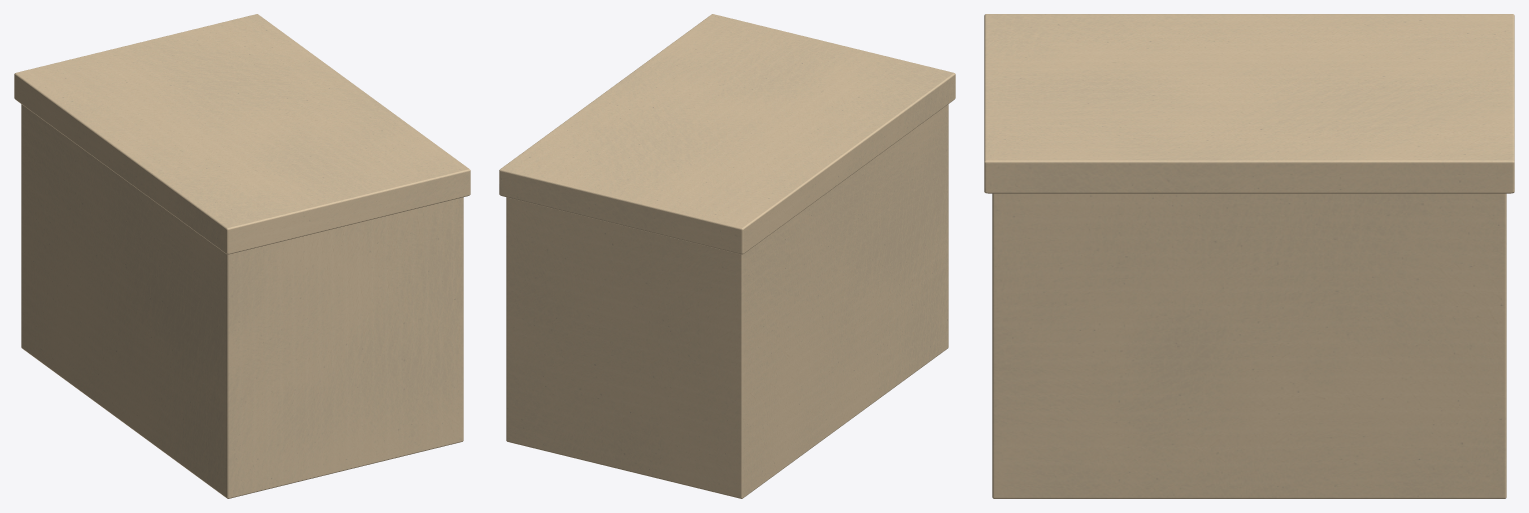
File: colored_box.obj
The picture shows the model from 3 angles, left to right: view 1: azimuth 30°, elevation 25°; view 2: azimuth 150°, elevation 25°; view 3: azimuth 270°, elevation 25°; orthographic projection. The views are drawn at different scales.
Parts seen in each view (by area): view 1: Storagebox_Box_blue_0; view 2: Storagebox_Box_blue_0; view 3: Storagebox_Box_blue_0.
Boxes of the visible parts, <box> form: Storagebox_Box_blue_0: <box>14,14,470,498</box>; Storagebox_Box_blue_0: <box>499,14,955,498</box>; Storagebox_Box_blue_0: <box>984,14,1514,498</box>.
Size of the model in its own units: 25.73 by 27.61 by 38.96.
Materials: 1 (1 with a texture image).
